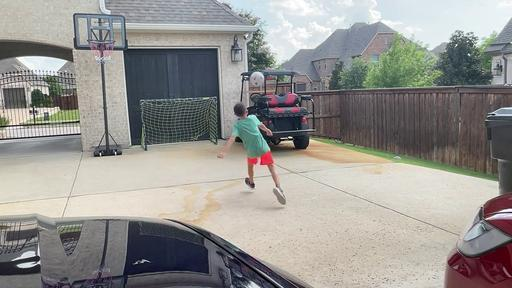ball: (250, 70, 266, 88)
human: (217, 102, 287, 206)
rim: (87, 38, 116, 61)
